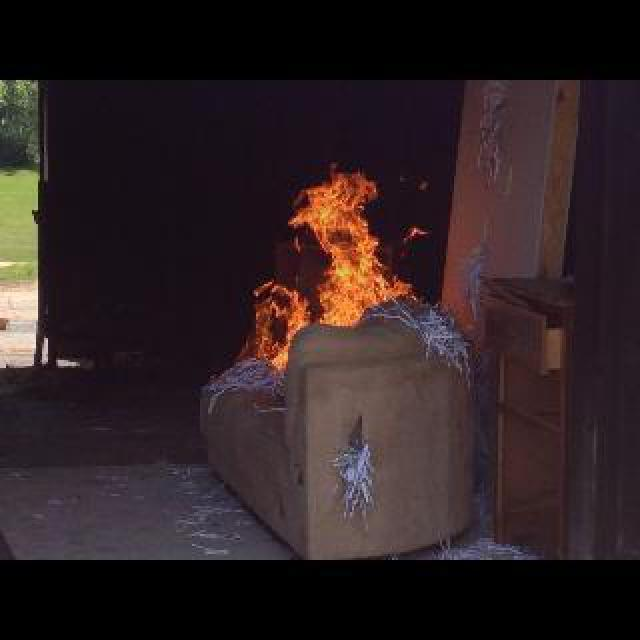Fire: (214, 154, 406, 372)
